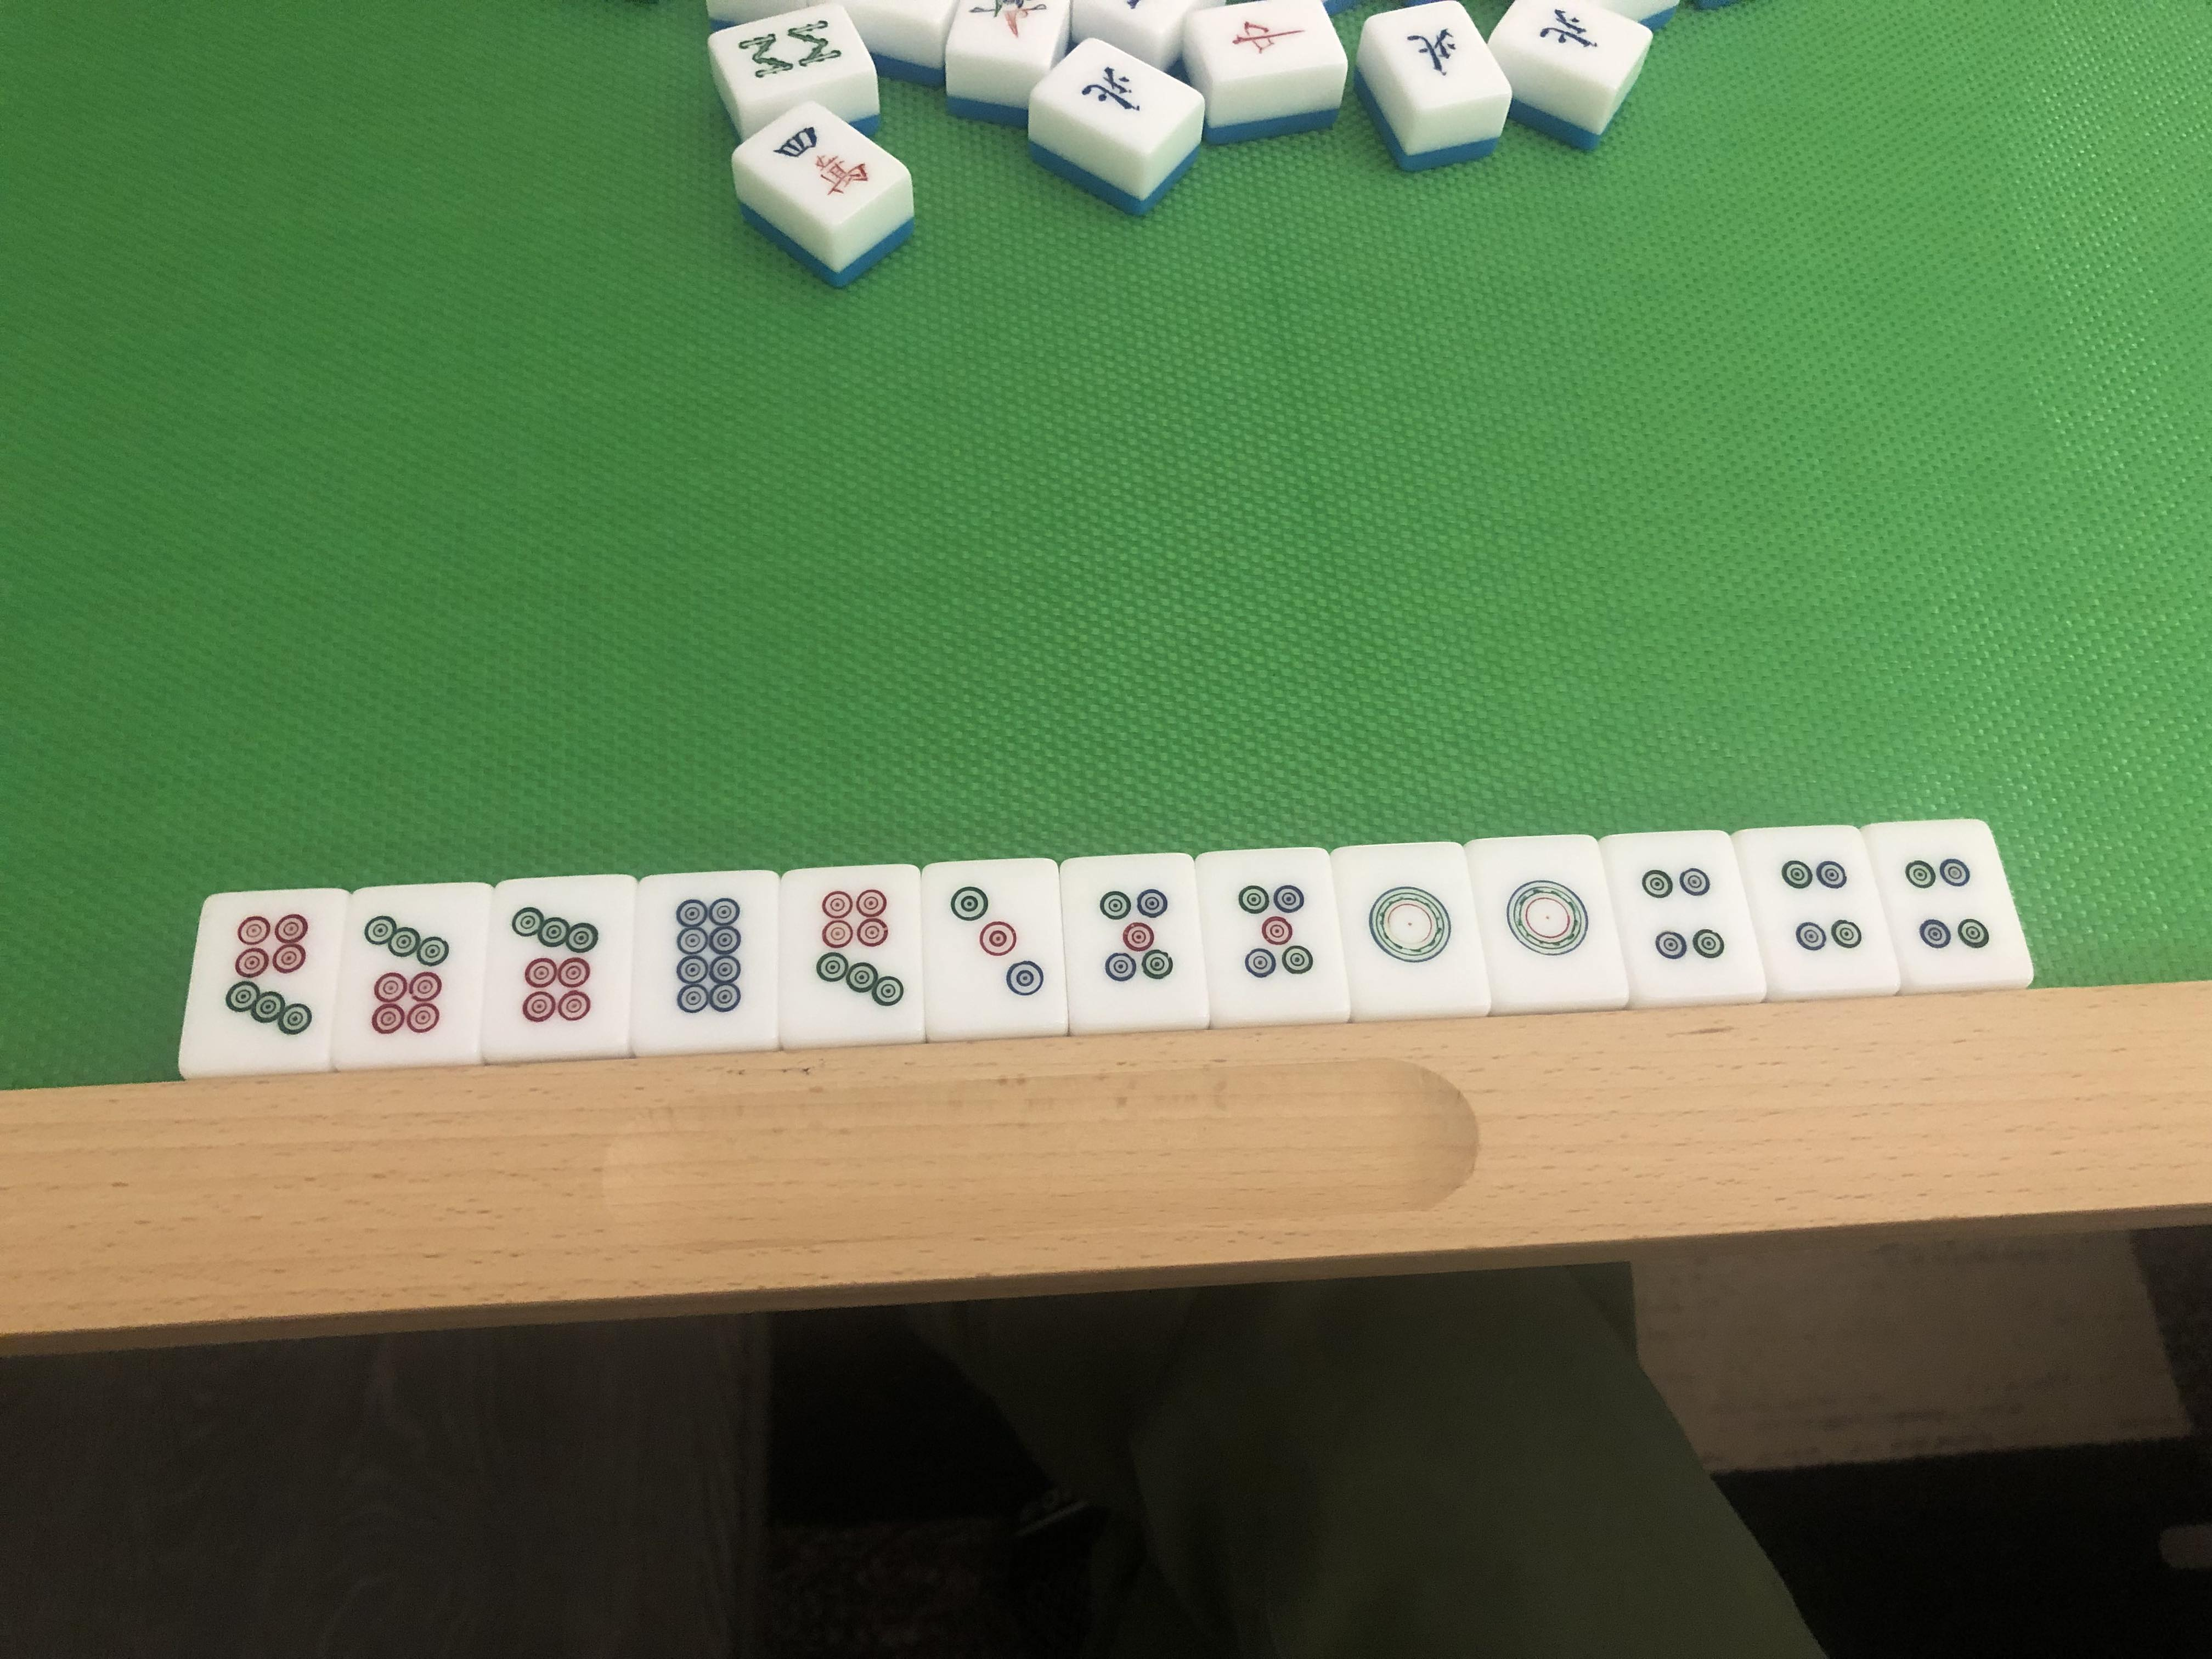circle-eight: (650, 890, 766, 1040)
circle-five: (1219, 868, 1325, 990), (1082, 873, 1186, 993)
circle-four: (1897, 843, 1998, 958), (1775, 852, 1869, 962), (1637, 864, 1728, 972)
circle-one: (1353, 863, 1461, 983), (1489, 861, 1595, 983)
circle-seven: (211, 903, 324, 1054), (498, 892, 611, 1039), (354, 903, 460, 1053), (798, 878, 913, 1012)
circle-three: (930, 871, 1054, 1007)
